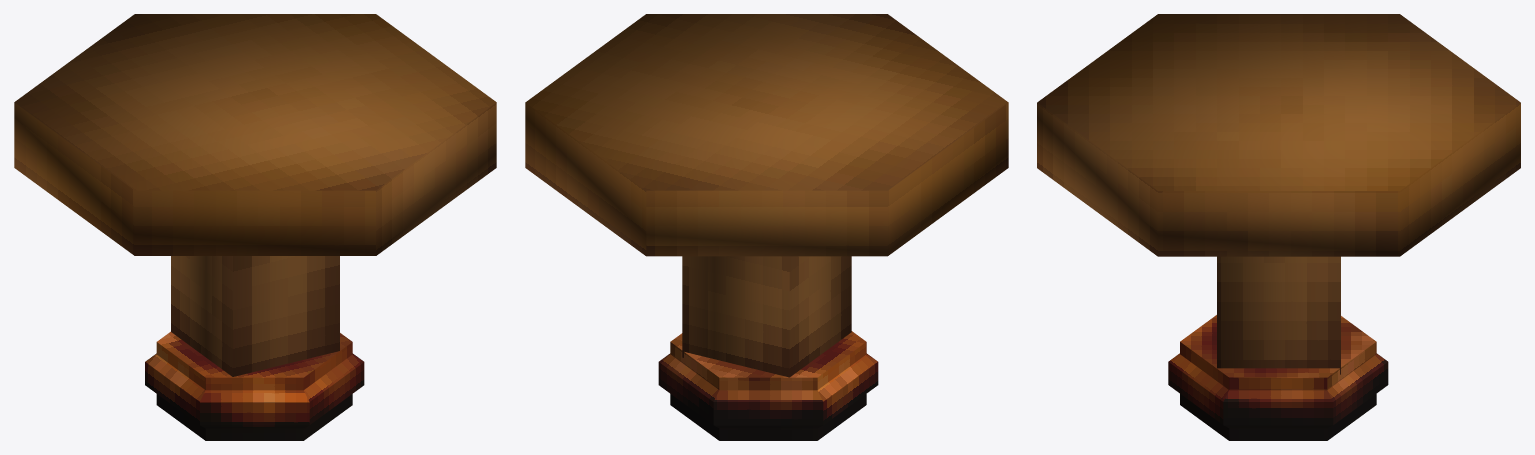
File: yaw_pivot_heavy.glb
The picture shows the model from 3 angles, left to right: view 1: azimuth 30°, elevation 25°; view 2: azimuth 150°, elevation 25°; view 3: azimuth 270°, elevation 25°; orthographic projection.
Parts seen in each view (by area): view 1: tower_wood_heavy_yaw_pivot, tower_wood_bronze_yaw_pivot.002; view 2: tower_wood_heavy_yaw_pivot, tower_wood_bronze_yaw_pivot.002; view 3: tower_wood_heavy_yaw_pivot, tower_wood_bronze_yaw_pivot.002.
Boxes of the visible parts, x1=… form: tower_wood_heavy_yaw_pivot: x1=14, y1=14, x2=496, y2=376; tower_wood_bronze_yaw_pivot.002: x1=145, y1=331, x2=364, y2=440; tower_wood_heavy_yaw_pivot: x1=525, y1=14, x2=1008, y2=377; tower_wood_bronze_yaw_pivot.002: x1=658, y1=331, x2=878, y2=440; tower_wood_heavy_yaw_pivot: x1=1037, y1=14, x2=1520, y2=374; tower_wood_bronze_yaw_pivot.002: x1=1168, y1=315, x2=1388, y2=440.
Bounding box in the file's own units: 1.23 × 0.9779 × 1.41.
Materials: 2 (2 with a texture image).
